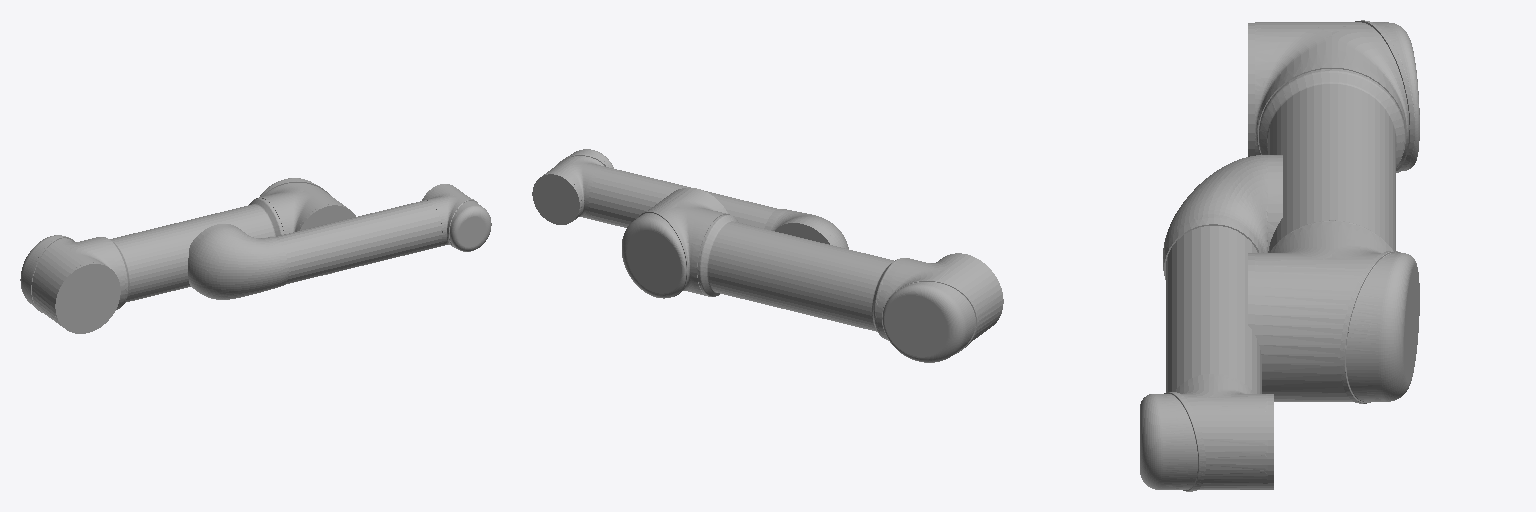
robot.urdf — ur3:
<?xml version="1.0" encoding="utf-8"?>
<!-- =================================================================================== -->
<!-- |    This document was autogenerated by xacro from ur3_robot.urdf.xacro           | -->
<!-- |    EDITING THIS FILE BY HAND IS NOT RECOMMENDED                                 | -->
<!-- =================================================================================== -->
<robot name="ur3">
  <gazebo>
    <plugin filename="libgazebo_ros_control.so" name="ros_control">
    </plugin>
  </gazebo>
  <!--
  Author: [author]
-->
  <!-- measured from model -->
  <link name="base_link">
    <visual>
      <origin rpy="0 0 3.14159265359" xyz="0 0 0"/>
      <geometry>
        <mesh filename="package://ur_description/meshes/ur3/visual/base.dae"/>
      </geometry>
      <material name="LightGrey">
        <color rgba="0.7 0.7 0.7 1.0"/>
      </material>
    </visual>
    <collision>
      <origin rpy="0 0 3.14159265359" xyz="0 0 0"/>
      <geometry>
        <mesh filename="package://ur_description/meshes/ur3/collision/base.stl"/>
      </geometry>
    </collision>
    <inertial>
      <mass value="2.0"/>
      <origin rpy="0 0 0" xyz="0.0 0.0 0.0"/>
      <inertia ixx="0.0030531654454" ixy="0.0" ixz="0.0" iyy="0.0030531654454" iyz="0.0" izz="0.005625"/>
    </inertial>
  </link>
  <joint name="shoulder_pan_joint" type="revolute">
    <parent link="base_link"/>
    <child link="shoulder_link"/>
    <origin rpy="0 0 3.14159265359" xyz="0 0 0.1519"/>
    <axis xyz="0 0 1"/>
    <limit effort="330.0" lower="-6.28318530718" upper="6.28318530718" velocity="2.16"/>
    <dynamics damping="0.0" friction="0.0"/>
  </joint>
  <link name="shoulder_link">
    <visual>
      <origin rpy="0 0 3.14159265359" xyz="0 0 0"/>
      <geometry>
        <mesh filename="package://ur_description/meshes/ur3/visual/shoulder.dae"/>
      </geometry>
      <material name="LightGrey">
        <color rgba="0.7 0.7 0.7 1.0"/>
      </material>
    </visual>
    <collision>
      <origin rpy="0 0 3.14159265359" xyz="0 0 0"/>
      <geometry>
        <mesh filename="package://ur_description/meshes/ur3/collision/shoulder.stl"/>
      </geometry>
    </collision>
    <inertial>
      <mass value="2.0"/>
      <origin rpy="0 0 0" xyz="0.0 0.0 0.0"/>
      <inertia ixx="0.0080931634294" ixy="0.0" ixz="0.0" iyy="0.0080931634294" iyz="0.0" izz="0.005625"/>
    </inertial>
  </link>
  <joint name="shoulder_lift_joint" type="revolute">
    <parent link="shoulder_link"/>
    <child link="upper_arm_link"/>
    <origin rpy="1.570796327 0 0" xyz="0 0 0"/>
    <axis xyz="0 0 1"/>
    <limit effort="330.0" lower="-6.28318530718" upper="6.28318530718" velocity="2.16"/>
    <dynamics damping="0.0" friction="0.0"/>
  </joint>
  <link name="upper_arm_link">
    <visual>
      <origin rpy="1.57079632679 0 -1.57079632679" xyz="0 0 0.1198"/>
      <geometry>
        <mesh filename="package://ur_description/meshes/ur3/visual/upperarm.dae"/>
      </geometry>
      <material name="LightGrey">
        <color rgba="0.7 0.7 0.7 1.0"/>
      </material>
    </visual>
    <collision>
      <origin rpy="1.57079632679 0 -1.57079632679" xyz="0 0 0.1198"/>
      <geometry>
        <mesh filename="package://ur_description/meshes/ur3/collision/upperarm.stl"/>
      </geometry>
    </collision>
    <inertial>
      <mass value="3.42"/>
      <origin rpy="0 1.57079632679 0" xyz="-0.121825 0.0 0.12"/>
      <inertia ixx="0.0217284832211" ixy="0.0" ixz="0.0" iyy="0.0217284832211" iyz="0.0" izz="0.00961875"/>
    </inertial>
  </link>
  <joint name="elbow_joint" type="revolute">
    <parent link="upper_arm_link"/>
    <child link="forearm_link"/>
    <origin rpy="0 0 0" xyz="-0.24365 0 0"/>
    <axis xyz="0 0 1"/>
    <limit effort="150.0" lower="-3.14159265359" upper="3.14159265359" velocity="3.15"/>
    <dynamics damping="0.0" friction="0.0"/>
  </joint>
  <link name="forearm_link">
    <visual>
      <origin rpy="1.57079632679 0 -1.57079632679" xyz="0 0 0.0275"/>
      <geometry>
        <mesh filename="package://ur_description/meshes/ur3/visual/forearm.dae"/>
      </geometry>
      <material name="LightGrey">
        <color rgba="0.7 0.7 0.7 1.0"/>
      </material>
    </visual>
    <collision>
      <origin rpy="1.57079632679 0 -1.57079632679" xyz="0 0 0.0275"/>
      <geometry>
        <mesh filename="package://ur_description/meshes/ur3/collision/forearm.stl"/>
      </geometry>
    </collision>
    <inertial>
      <mass value="1.26"/>
      <origin rpy="0 1.57079632679 0" xyz="-0.121825 0.0 0.0275"/>
      <inertia ixx="0.00654680644378" ixy="0.0" ixz="0.0" iyy="0.00654680644378" iyz="0.0" izz="0.00354375"/>
    </inertial>
  </link>
  <joint name="wrist_1_joint" type="revolute">
    <parent link="forearm_link"/>
    <child link="wrist_1_link"/>
    <origin rpy="0 0 0" xyz="-0.21325 0 0.11235"/>
    <axis xyz="0 0 1"/>
    <limit effort="54.0" lower="-6.28318530718" upper="6.28318530718" velocity="3.2"/>
    <dynamics damping="0.0" friction="0.0"/>
  </joint>
  <link name="wrist_1_link">
    <visual>
      <origin rpy="1.57079632679 0 0" xyz="0 0 -0.085"/>
      <geometry>
        <mesh filename="package://ur_description/meshes/ur3/visual/wrist1.dae"/>
      </geometry>
      <material name="LightGrey">
        <color rgba="0.7 0.7 0.7 1.0"/>
      </material>
    </visual>
    <collision>
      <origin rpy="1.57079632679 0 0" xyz="0 0 -0.085"/>
      <geometry>
        <mesh filename="package://ur_description/meshes/ur3/collision/wrist1.stl"/>
      </geometry>
    </collision>
    <inertial>
      <mass value="0.8"/>
      <origin rpy="0 0 0" xyz="0.0 0.0 0.0"/>
      <inertia ixx="0.00161064085574" ixy="0.0" ixz="0.0" iyy="0.00161064085574" iyz="0.0" izz="0.00225"/>
    </inertial>
  </link>
  <joint name="wrist_2_joint" type="revolute">
    <parent link="wrist_1_link"/>
    <child link="wrist_2_link"/>
    <origin rpy="1.570796327 0 0" xyz="0 -0.08535 -1.75055776238e-11"/>
    <axis xyz="0 0 1"/>
    <limit effort="54.0" lower="-6.28318530718" upper="6.28318530718" velocity="3.2"/>
    <dynamics damping="0.0" friction="0.0"/>
  </joint>
  <link name="wrist_2_link">
    <visual>
      <origin rpy="0 0 0" xyz="0 0 -0.085"/>
      <geometry>
        <mesh filename="package://ur_description/meshes/ur3/visual/wrist2.dae"/>
      </geometry>
      <material name="LightGrey">
        <color rgba="0.7 0.7 0.7 1.0"/>
      </material>
    </visual>
    <collision>
      <origin rpy="0 0 0" xyz="0 0 -0.085"/>
      <geometry>
        <mesh filename="package://ur_description/meshes/ur3/collision/wrist2.stl"/>
      </geometry>
    </collision>
    <inertial>
      <mass value="0.8"/>
      <origin rpy="0 0 0" xyz="0.0 0.0 0.0"/>
      <inertia ixx="0.00157217337113" ixy="0.0" ixz="0.0" iyy="0.00157217337113" iyz="0.0" izz="0.00225"/>
    </inertial>
  </link>
  <joint name="wrist_3_joint" type="revolute">
    <parent link="wrist_2_link"/>
    <child link="wrist_3_link"/>
    <origin rpy="1.57079632659 3.14159265359 3.14159265359" xyz="0 0.0819 -1.67979707954e-11"/>
    <axis xyz="0 0 1"/>
    <limit effort="54.0" lower="-6.28318530718" upper="6.28318530718" velocity="3.2"/>
    <dynamics damping="0.0" friction="0.0"/>
  </joint>
  <link name="wrist_3_link">
    <visual>
      <origin rpy="1.57079632679 0 0" xyz="0 0 -0.082"/>
      <geometry>
        <mesh filename="package://ur_description/meshes/ur3/visual/wrist3.dae"/>
      </geometry>
      <material name="LightGrey">
        <color rgba="0.7 0.7 0.7 1.0"/>
      </material>
    </visual>
    <collision>
      <origin rpy="1.57079632679 0 0" xyz="0 0 -0.082"/>
      <geometry>
        <mesh filename="package://ur_description/meshes/ur3/collision/wrist3.stl"/>
      </geometry>
    </collision>
    <inertial>
      <mass value="0.35"/>
      <origin rpy="0 0 0" xyz="0.0 0.0 -0.01525"/>
      <inertia ixx="0.000204319709939" ixy="0.0" ixz="0.0" iyy="0.000204319709939" iyz="0.0" izz="0.000354375"/>
    </inertial>
  </link>
  <joint name="ee_fixed_joint" type="fixed">
    <parent link="wrist_3_link"/>
    <child link="ee_link"/>
    <origin rpy="0.0 -1.57079632679 1.57079632679" xyz="0.0 0.0 0.0"/>
  </joint>
  <link name="ee_link">
    <collision>
      <geometry>
        <box size="0.01 0.01 0.01"/>
      </geometry>
      <origin rpy="0 0 0" xyz="-0.01 0 0"/>
    </collision>
  </link>
  <joint name="wrist_3_passive_joint" type="fixed">
    <origin rpy="0 0 0" xyz="0 0 0"/>
    <parent link="wrist_3_link"/>
    <child link="tool0"/>
  </joint>
  <transmission name="shoulder_pan_trans">
    <type>transmission_interface/SimpleTransmission</type>
    <joint name="shoulder_pan_joint">
      <hardwareInterface>hardware_interface/PositionJointInterface</hardwareInterface>
    </joint>
    <actuator name="shoulder_pan_motor">
      <mechanicalReduction>1</mechanicalReduction>
    </actuator>
  </transmission>
  <transmission name="shoulder_lift_trans">
    <type>transmission_interface/SimpleTransmission</type>
    <joint name="shoulder_lift_joint">
      <hardwareInterface>hardware_interface/PositionJointInterface</hardwareInterface>
    </joint>
    <actuator name="shoulder_lift_motor">
      <mechanicalReduction>1</mechanicalReduction>
    </actuator>
  </transmission>
  <transmission name="elbow_trans">
    <type>transmission_interface/SimpleTransmission</type>
    <joint name="elbow_joint">
      <hardwareInterface>hardware_interface/PositionJointInterface</hardwareInterface>
    </joint>
    <actuator name="elbow_motor">
      <mechanicalReduction>1</mechanicalReduction>
    </actuator>
  </transmission>
  <transmission name="wrist_1_trans">
    <type>transmission_interface/SimpleTransmission</type>
    <joint name="wrist_1_joint">
      <hardwareInterface>hardware_interface/PositionJointInterface</hardwareInterface>
    </joint>
    <actuator name="wrist_1_motor">
      <mechanicalReduction>1</mechanicalReduction>
    </actuator>
  </transmission>
  <transmission name="wrist_2_trans">
    <type>transmission_interface/SimpleTransmission</type>
    <joint name="wrist_2_joint">
      <hardwareInterface>hardware_interface/PositionJointInterface</hardwareInterface>
    </joint>
    <actuator name="wrist_2_motor">
      <mechanicalReduction>1</mechanicalReduction>
    </actuator>
  </transmission>
  <transmission name="wrist_3_trans">
    <type>transmission_interface/SimpleTransmission</type>
    <joint name="wrist_3_joint">
      <hardwareInterface>hardware_interface/PositionJointInterface</hardwareInterface>
    </joint>
    <actuator name="wrist_3_motor">
      <mechanicalReduction>1</mechanicalReduction>
    </actuator>
  </transmission>
  <gazebo reference="shoulder_link">
    <selfCollide>true</selfCollide>
  </gazebo>
  <gazebo reference="upper_arm_link">
    <selfCollide>true</selfCollide>
  </gazebo>
  <gazebo reference="forearm_link">
    <selfCollide>true</selfCollide>
  </gazebo>
  <gazebo reference="wrist_1_link">
    <selfCollide>true</selfCollide>
  </gazebo>
  <gazebo reference="wrist_3_link">
    <selfCollide>true</selfCollide>
  </gazebo>
  <gazebo reference="wrist_2_link">
    <selfCollide>true</selfCollide>
  </gazebo>
  <gazebo reference="ee_link">
    <selfCollide>true</selfCollide>
  </gazebo>
  <!-- ROS base_link to UR 'Base' Coordinates transform -->
  <link name="base"/>
  <joint name="base_link-base_fixed_joint" type="fixed">
    <!-- NOTE: this rotation is only needed as long as base_link itself is
                 not corrected wrt the real robot (ie: rotated over 180
                 degrees)
      -->
    <origin rpy="0 0 -3.14159265359" xyz="0 0 0"/>
    <parent link="base_link"/>
    <child link="base"/>
  </joint>
  <!-- Frame coincident with all-zeros TCP on UR controller -->
  <link name="tool0"/>
  <link name="world"/>
  <joint name="world_joint" type="fixed">
    <parent link="world"/>
    <child link="base_link"/>
    <origin rpy="0.0 0.0 0.0" xyz="0.0 0.0 0.0"/>
  </joint>
</robot>

--- What the picture shows (computed from the rendered views, not written in the file) ---
Views: 3 orthographic renders of the robot side by side, from view 1: azimuth 30°, elevation 25°; view 2: azimuth 150°, elevation 25°; view 3: azimuth 270°, elevation 25°.
Robot: ur3 — 11 links, 10 joints (6 revolute, 4 fixed); root link world; default pose: every joint at zero.
Links seen in each view (by area): view 1: upper_arm_link, forearm_link; view 2: upper_arm_link, forearm_link; view 3: upper_arm_link, forearm_link.
Link boxes in pixels (bbox=[...]): upper_arm_link: bbox=[20, 178, 355, 333]; forearm_link: bbox=[188, 184, 491, 299]; upper_arm_link: bbox=[622, 188, 1003, 362]; forearm_link: bbox=[532, 149, 848, 248]; upper_arm_link: bbox=[1248, 20, 1419, 403]; forearm_link: bbox=[1140, 155, 1282, 491].
Bounding box of the posed robot: 0.7343 × 0.218 × 0.119 m (x, y, z).
2 mesh visuals loaded from 7 distinct referenced files (2 Collada DAE); not drawn: 5 (reference not matched to a file when rendering).